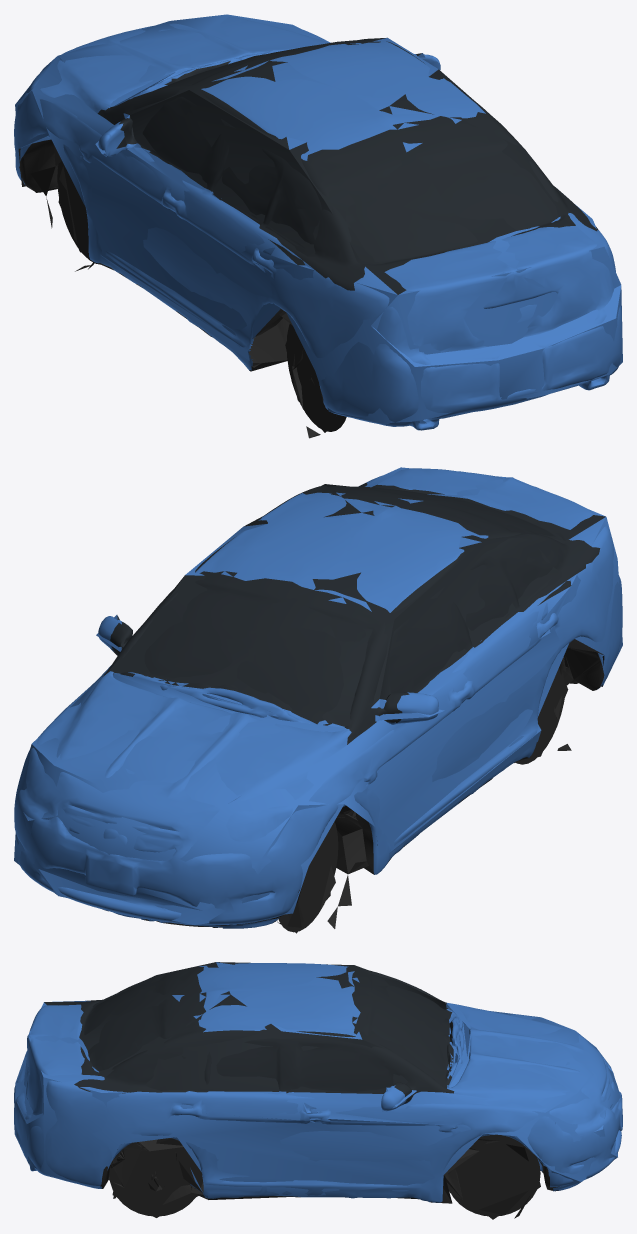
Rendered from ford-taurus.glb.
3 renders of one model, top to bottom at view 1: azimuth 30°, elevation 25°; view 2: azimuth 150°, elevation 25°; view 3: azimuth 270°, elevation 25°, orthographic. The views are drawn at different scales.
Parts seen in each view (by area): view 1: body, far; view 2: body, far; view 3: body, far.
Boxes of the visible parts, box(x1,y1,x2,y2) form: body: box(14, 17, 622, 438); far: box(15, 14, 622, 432); body: box(14, 468, 622, 932); far: box(14, 467, 622, 933); body: box(14, 963, 622, 1216); far: box(14, 962, 620, 1219).
Size of the model in its own units: 2.48 by 1.81 by 5.22.
